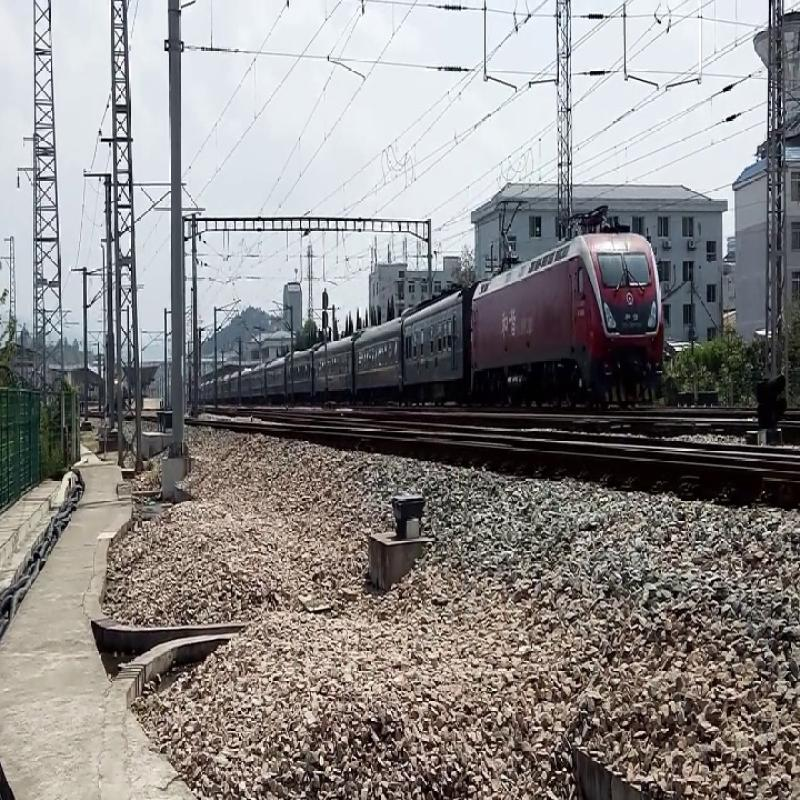train: (409, 233, 657, 403)
